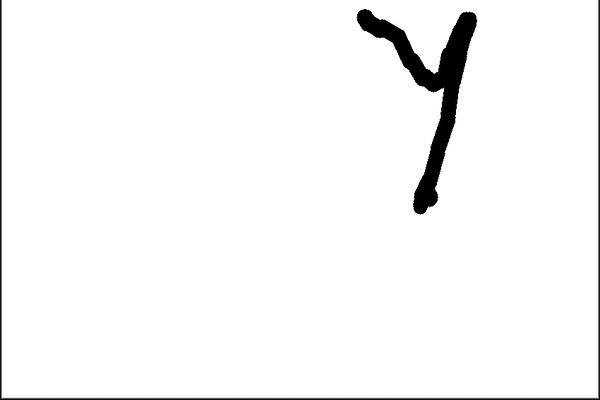Y: (340, 3, 489, 223)
